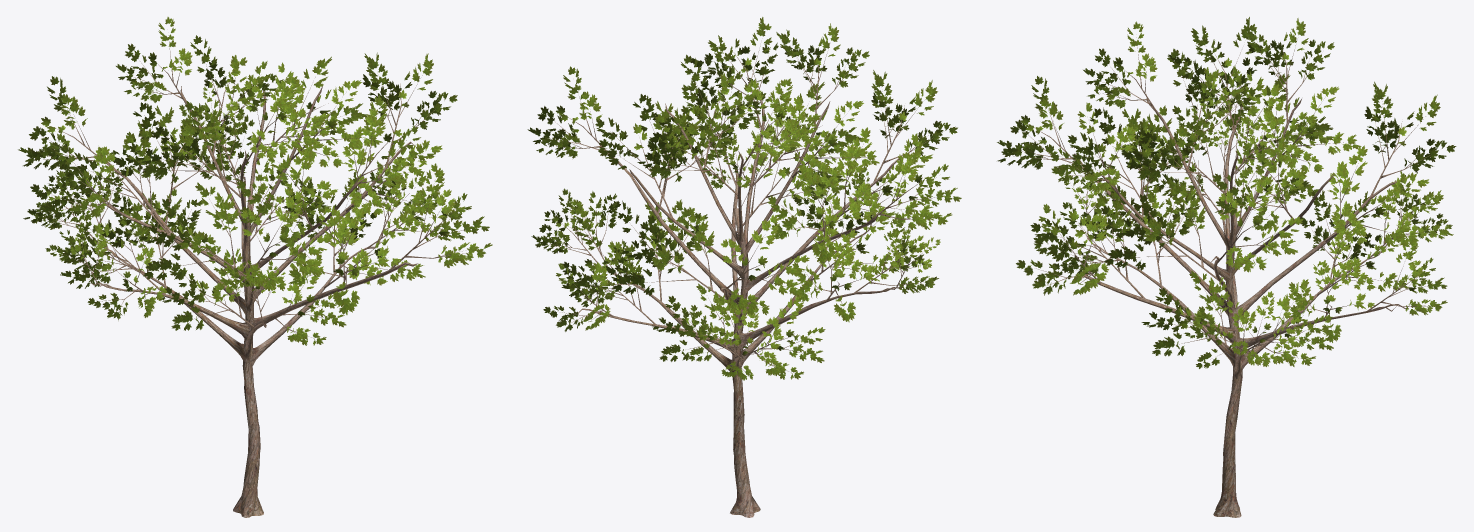
Rendered from maple14.obj.
3 renders of one model, left to right at view 1: azimuth 30°, elevation 25°; view 2: azimuth 150°, elevation 25°; view 3: azimuth 270°, elevation 25°, orthographic. The views are drawn at different scales.
Parts seen in each view (by area): view 1: leaf maple, bark02; view 2: leaf maple, bark02; view 3: leaf maple, bark02.
Part boxes in pixels (x1,y1,x2,y2): leaf maple: [18, 17, 492, 345]; bark02: [38, 35, 467, 517]; leaf maple: [527, 17, 961, 380]; bark02: [546, 47, 943, 517]; leaf maple: [997, 17, 1456, 368]; bark02: [1010, 37, 1435, 517].
Bounding box in the file's own units: 773 × 836 × 743.
2 materials, 2 textured.
